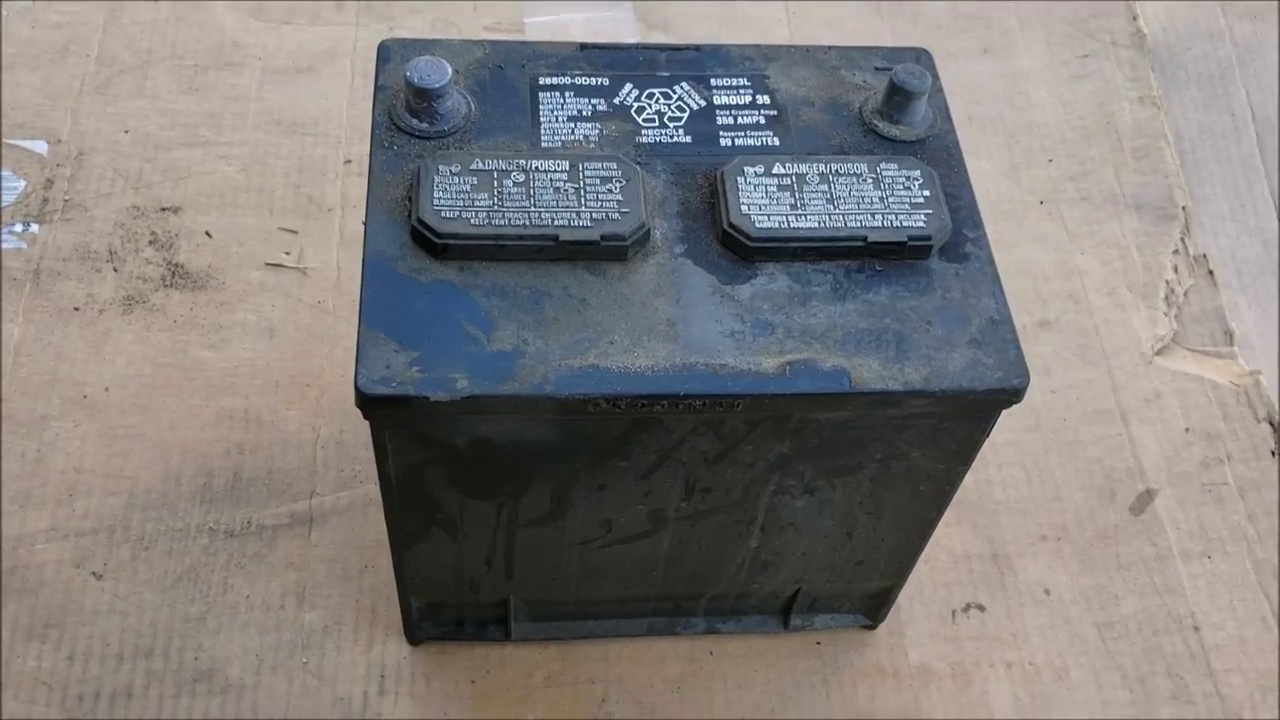battery: (359, 34, 1042, 397)
